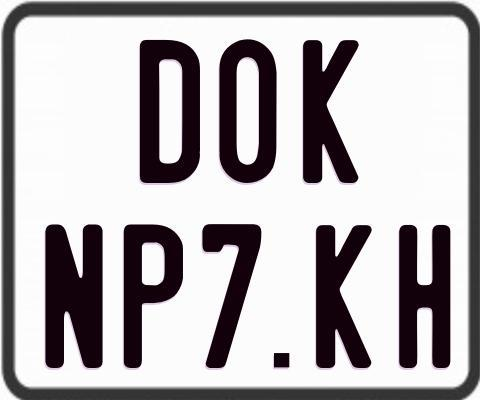0: (218, 36, 282, 182)
7: (201, 222, 265, 367)
D: (138, 37, 198, 181)
H: (398, 223, 455, 371)
K: (300, 38, 360, 187), (315, 224, 371, 367)
N: (43, 222, 105, 370)
P: (124, 221, 189, 370)
